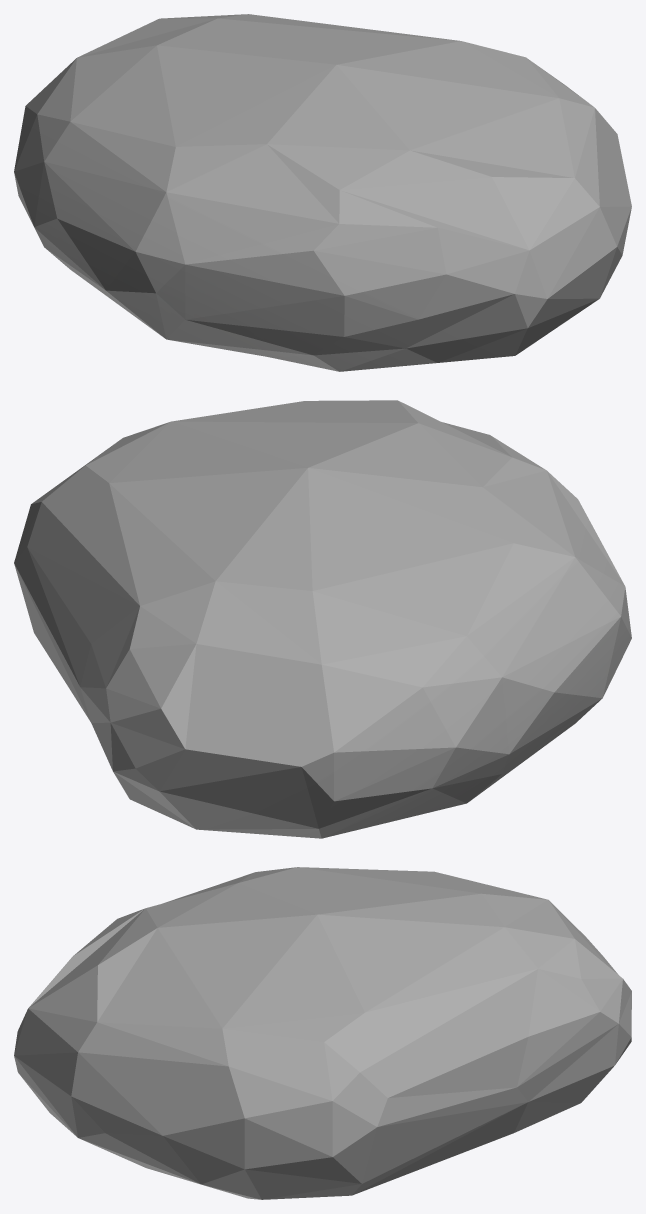
The model's file is Rock 14.FBX.
3 views of the same model, one above another, from view 1: azimuth 30°, elevation 25°; view 2: azimuth 150°, elevation 25°; view 3: azimuth 270°, elevation 25° (orthographic). The views are drawn at different scales.
Parts seen in each view (by area): view 1: Box001; view 2: Box001; view 3: Box001.
Boxes of the visible parts, x1=… form: Box001: x1=14, y1=14, x2=631, y2=371; Box001: x1=14, y1=400, x2=631, y2=838; Box001: x1=14, y1=867, x2=631, y2=1199.
Bounding box in the file's own units: 25.17 × 12.32 × 29.02.
